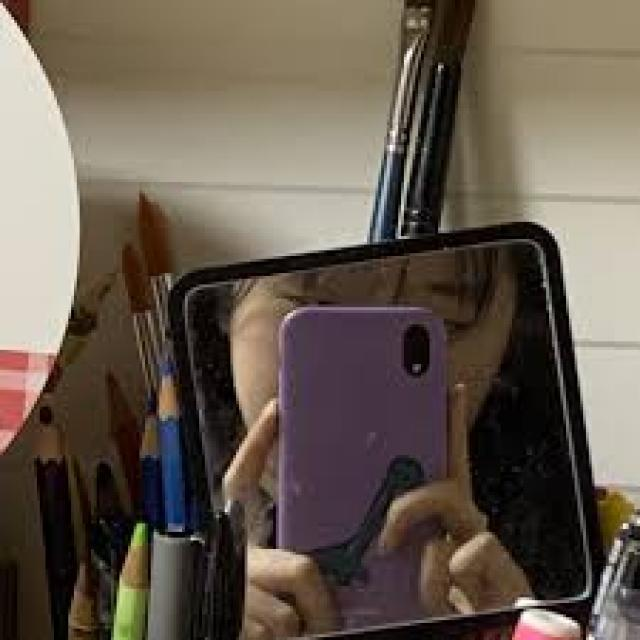Phone: (274, 303, 455, 620)
